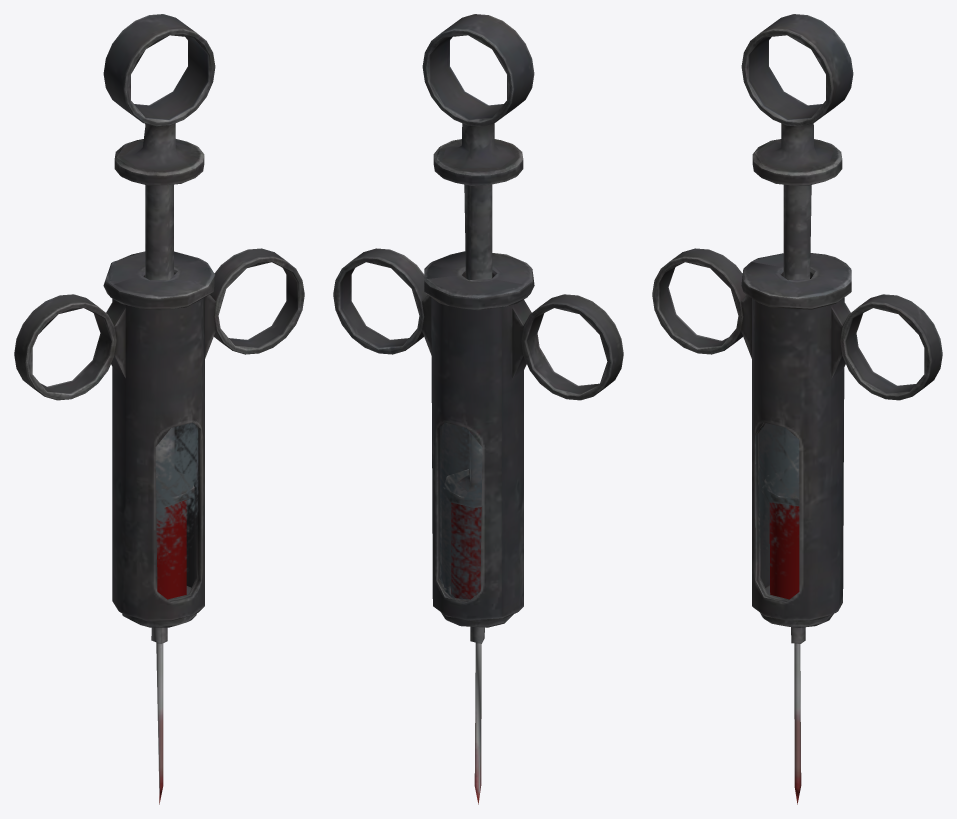
The model's file is item-syringe.glb.
The picture shows the model from 3 angles, left to right: view 1: azimuth 30°, elevation 25°; view 2: azimuth 150°, elevation 25°; view 3: azimuth 330°, elevation 25°; orthographic projection.
Parts seen in each view (by area): view 1: base; view 2: base; view 3: base.
Part boxes in pixels (left/top/right/bottom): base: left=14, top=14, right=304, bottom=804; base: left=333, top=14, right=623, bottom=804; base: left=652, top=14, right=942, bottom=804.
Bounding box in the file's own units: 0.224 × 0.6 × 0.078.
Materials: 1 (1 with a texture image).
